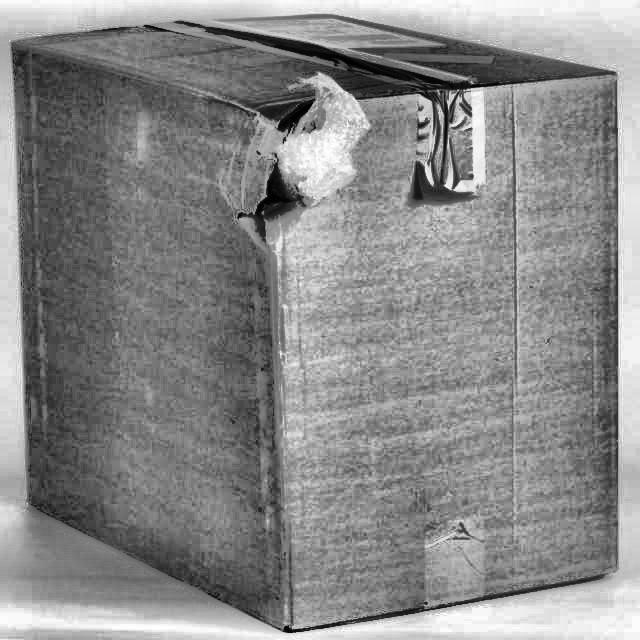box: (5, 4, 635, 639)
hole: (246, 102, 328, 220)
